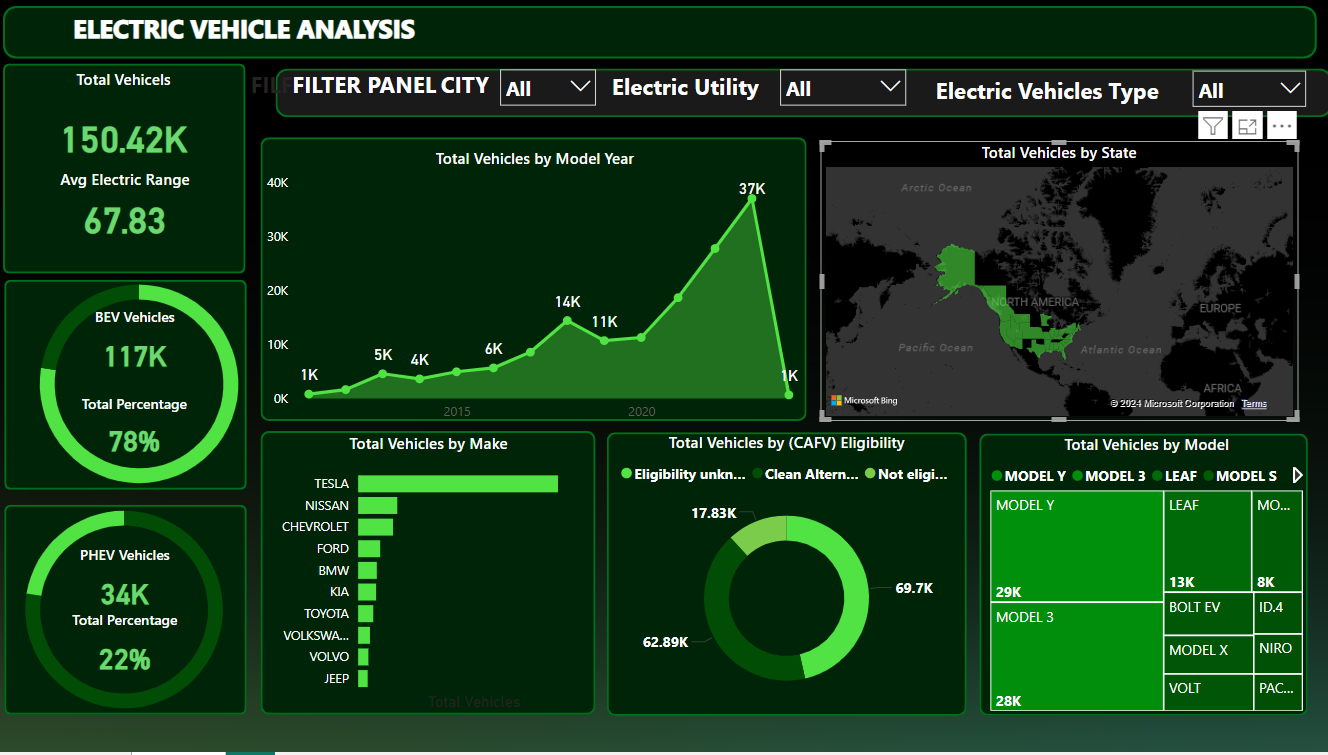

Layout of this report page (visuals, bound fields, positions):
{"tool":"powerbi","page":{"name":"Page 1","canvas":[1280,720],"ordinal":0},"visuals":[{"type":"shape","box":[14.3,9.5,1251.2,50],"z":0},{"type":"textbox","box":[76.2,9.5,477.4,59.5],"z":1000},{"type":"shape","box":[14.3,64.3,231,200],"z":2000},{"type":"card","title":"Total Vehicels","fields":{"Values":["Electric_Vehicle_Population_Data.Total Vehicles"]},"box":[40.5,69,177.4,109.5],"z":3000},{"type":"card","title":"Avg Electric Range","fields":{"Values":["Avg(Electric_Vehicle_Population_Data.Electric Range)"]},"box":[15.5,164.3,229.8,73.8],"z":4000},{"type":"shape","box":[15.5,270.2,231,200],"z":5000},{"type":"shape","box":[15.5,484.5,231,200],"z":6000},{"type":"donutChart","fields":{"Y":["Electric_Vehicle_Population_Data.Total Vehicles"],"Category":["Electric_Vehicle_Population_Data.Electric Vehicle Type"]},"box":[14.3,246.4,259.5,246.4],"z":7000},{"type":"card","title":"BEV  Vehicles","fields":{"Values":["Electric_Vehicle_Population_Data.BEV Vehicles"]},"box":[76.2,296.4,127.4,73.8],"z":8000},{"type":"card","title":"Total Percentage","fields":{"Values":["Electric_Vehicle_Population_Data.Percentage OF BEV"]},"box":[75,378.6,128.6,70.2],"z":9000},{"type":"donutChart","fields":{"Y":["Electric_Vehicle_Population_Data.Total Vehicles"],"Category":["Electric_Vehicle_Population_Data.Electric Vehicle Type"]},"box":[0,461.9,259.5,245.2],"z":10000},{"type":"card","title":"PHEV Vehicles","fields":{"Values":["Electric_Vehicle_Population_Data.PHEV Vehicles"]},"box":[66.7,522.6,127.4,73.8],"z":11000},{"type":"card","title":"Total Percentage","fields":{"Values":["Electric_Vehicle_Population_Data.percentage of PHEV"]},"box":[66.7,584.5,127.4,73.8],"z":12000},{"type":"shape","box":[273.8,69,1006,46.4],"z":13000},{"type":"shape","box":[259.5,134.5,520.2,270.2],"z":14000},{"type":"areaChart","fields":{"Category":["Electric_Vehicle_Population_Data.Model Year"],"Y":["Electric_Vehicle_Population_Data.Total Vehicles"]},"box":[260.7,144,520.2,270.2],"z":15000},{"type":"filledMap","fields":{"Category":["Electric_Vehicle_Population_Data.State"],"X":["Electric_Vehicle_Population_Data.Total Vehicles"]},"box":[792.9,138.1,454.8,266.7],"z":16000},{"type":"shape","box":[259.5,414.3,319,270.2],"z":17000},{"type":"barChart","fields":{"Category":["Electric_Vehicle_Population_Data.Make"],"Y":["Electric_Vehicle_Population_Data.Total Vehicles"]},"box":[260.7,415.5,317.9,270.2],"z":18000},{"type":"shape","box":[589.3,415.5,342.9,270.2],"z":19000},{"type":"donutChart","title":"Total Vehicles by (CAFV) Eligibility","fields":{"Category":["Electric_Vehicle_Population_Data.Clean Alternative Fuel Vehicle (CAFV) Eligibility"],"Y":["CountNonNull(Electric_Vehicle_Population_Data.State)"]},"box":[589.3,414.3,342.9,269],"z":20000},{"type":"shape","box":[944.1,416.7,313.1,269],"z":21000},{"type":"treemap","fields":{"Group":["Electric_Vehicle_Population_Data.Model"],"Values":["Electric_Vehicle_Population_Data.Total Vehicles"]},"box":[950,416.7,307.1,269],"z":22000},{"type":"textbox","box":[245.2,64.3,247.6,59.5],"z":23000},{"type":"slicer","fields":{"Values":["Electric_Vehicle_Population_Data.City"]},"box":[477.4,59.5,111.9,48.8],"z":24000},{"type":"textbox","box":[426.2,64.3,66.7,44],"z":25000},{"type":"slicer","fields":{"Values":["Electric_Vehicle_Population_Data.Electric Utility"]},"box":[744.1,59.5,140.5,48.8],"z":26000},{"type":"textbox","box":[589.3,66.7,171.4,44],"z":27000},{"type":"slicer","fields":{"Values":["Electric_Vehicle_Population_Data.Electric Vehicle Type"]},"box":[1136.9,60.7,128.6,48.8],"z":28000},{"type":"textbox","box":[897.6,70.2,239.3,44],"z":29000}]}

Visuals, with their boxes in screenshot pixels (x1, y1, x2, y2), scaled from the page's 1280x720 canvas onto the 1328x755 screenshot:
shape: pyautogui.locateOnScreen(15, 10, 1313, 62)
textbox: pyautogui.locateOnScreen(79, 10, 574, 72)
shape: pyautogui.locateOnScreen(15, 67, 254, 277)
"Total Vehicels" card: pyautogui.locateOnScreen(42, 72, 226, 187)
"Avg Electric Range" card: pyautogui.locateOnScreen(16, 172, 254, 250)
shape: pyautogui.locateOnScreen(16, 283, 256, 493)
shape: pyautogui.locateOnScreen(16, 508, 256, 718)
donutChart - Electric_Vehicle_Population_Data.Total Vehicles x Electric_Vehicle_Population_Data.Electric Vehicle Type: pyautogui.locateOnScreen(15, 258, 284, 517)
"BEV  Vehicles" card: pyautogui.locateOnScreen(79, 311, 211, 388)
"Total Percentage" card: pyautogui.locateOnScreen(78, 397, 211, 471)
donutChart - Electric_Vehicle_Population_Data.Total Vehicles x Electric_Vehicle_Population_Data.Electric Vehicle Type: pyautogui.locateOnScreen(0, 484, 269, 741)
"PHEV Vehicles" card: pyautogui.locateOnScreen(69, 548, 201, 625)
"Total Percentage" card: pyautogui.locateOnScreen(69, 613, 201, 690)
shape: pyautogui.locateOnScreen(284, 72, 1327, 121)
shape: pyautogui.locateOnScreen(269, 141, 809, 424)
areaChart - Electric_Vehicle_Population_Data.Model Year x Electric_Vehicle_Population_Data.Total Vehicles: pyautogui.locateOnScreen(270, 151, 810, 434)
filledMap - Electric_Vehicle_Population_Data.State x Electric_Vehicle_Population_Data.Total Vehicles: pyautogui.locateOnScreen(823, 145, 1294, 424)
shape: pyautogui.locateOnScreen(269, 434, 600, 718)
barChart - Electric_Vehicle_Population_Data.Make x Electric_Vehicle_Population_Data.Total Vehicles: pyautogui.locateOnScreen(270, 436, 600, 719)
shape: pyautogui.locateOnScreen(611, 436, 967, 719)
"Total Vehicles by (CAFV) Eligibility" donutChart: pyautogui.locateOnScreen(611, 434, 967, 717)
shape: pyautogui.locateOnScreen(980, 437, 1304, 719)
treemap - Electric_Vehicle_Population_Data.Model x Electric_Vehicle_Population_Data.Total Vehicles: pyautogui.locateOnScreen(986, 437, 1304, 719)
textbox: pyautogui.locateOnScreen(254, 67, 511, 130)
slicer - Electric_Vehicle_Population_Data.City: pyautogui.locateOnScreen(495, 62, 611, 114)
textbox: pyautogui.locateOnScreen(442, 67, 511, 114)
slicer - Electric_Vehicle_Population_Data.Electric Utility: pyautogui.locateOnScreen(772, 62, 918, 114)
textbox: pyautogui.locateOnScreen(611, 70, 789, 116)
slicer - Electric_Vehicle_Population_Data.Electric Vehicle Type: pyautogui.locateOnScreen(1180, 64, 1313, 115)
textbox: pyautogui.locateOnScreen(931, 74, 1180, 120)
